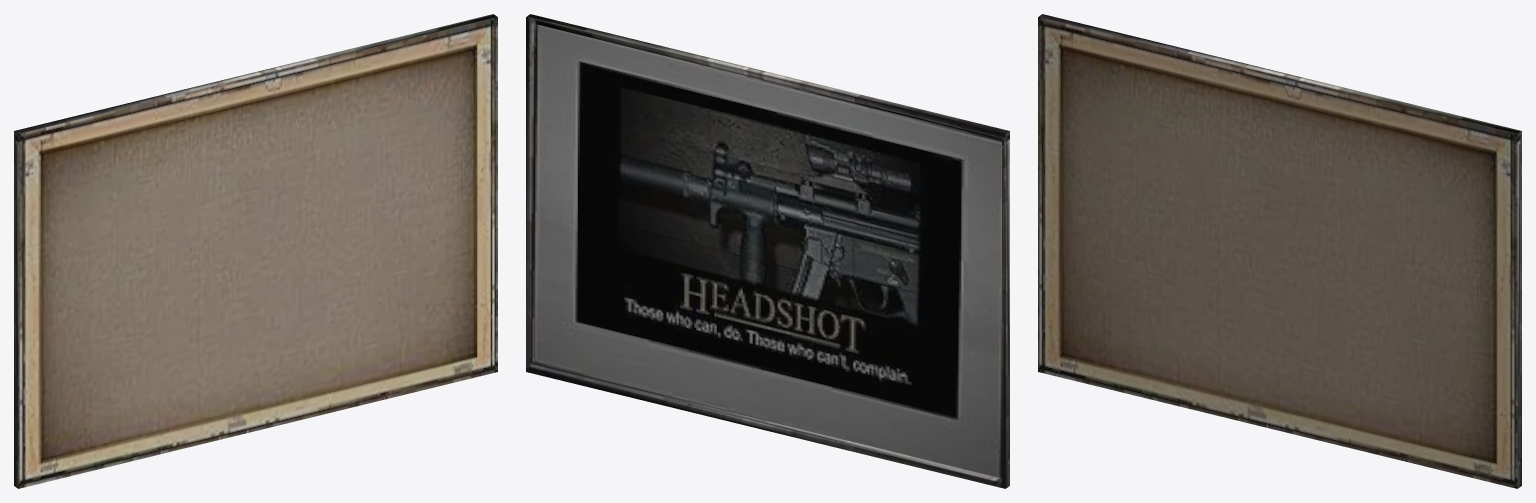
Rendered from offinspd.glb.
The picture shows the model from 3 angles, left to right: view 1: azimuth 30°, elevation 25°; view 2: azimuth 150°, elevation 25°; view 3: azimuth 330°, elevation 25°; orthographic projection.
Visible parts, largest first — view 1: 0_Poster_backing, 1_offinspd; view 2: 1_offinspd; view 3: 0_Poster_backing, 1_offinspd.
Part boxes in pixels (x1,y1,x2,y2): 0_Poster_backing: (18,17,497,488); 1_offinspd: (14,14,497,488); 1_offinspd: (526,14,1009,488); 0_Poster_backing: (1038,17,1517,488); 1_offinspd: (1038,14,1521,488).
Size of the model in its own units: 1.16 by 0.8171 by 0.0178.
2 materials, 2 textured.
